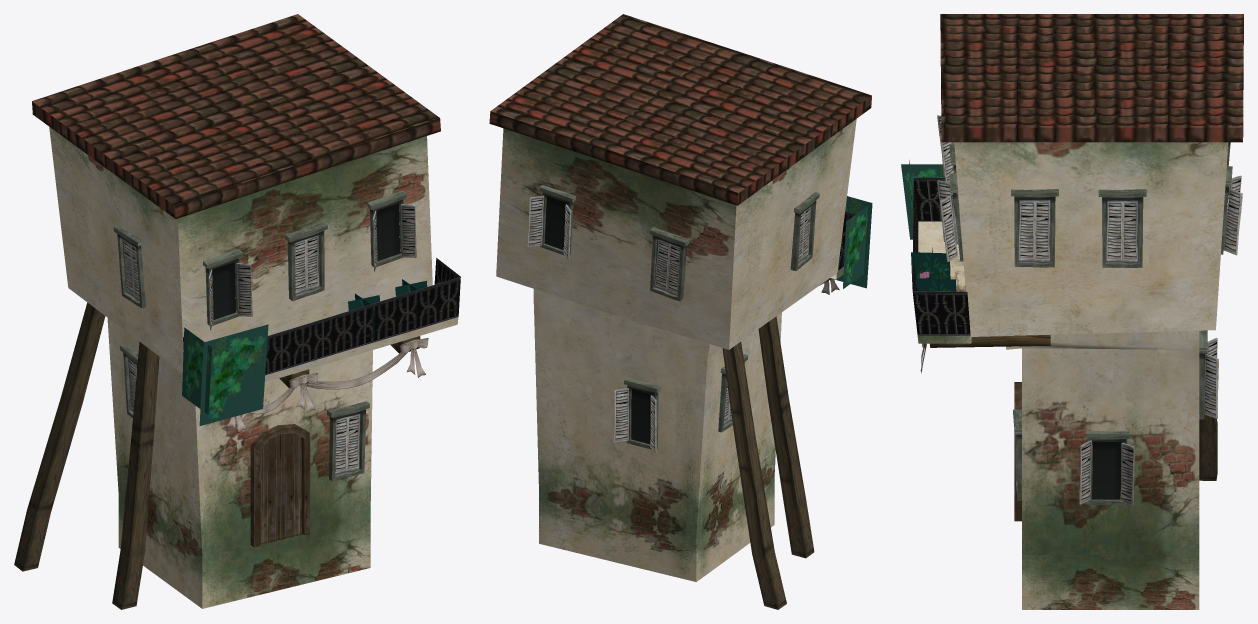
Rendered from spanish_npc_house_d_exterior.fbx.
3 renders of one model, left to right at view 1: azimuth 30°, elevation 25°; view 2: azimuth 150°, elevation 25°; view 3: azimuth 270°, elevation 25°, orthographic. The views are drawn at different scales.
Visible parts, largest first — view 1: roof, building_top, building_bottom, balcony_railing, polySurface273, polySurface275, pPlane33, door_right, win_rect_closed_012, win_rect_closed_01, door_frame, win_rect_closed_07 (+11 smaller); view 2: building_bottom, building_top, roof, polySurface273, polySurface275, win_rect_closed_010, win_rect_closed_07, pPlane34, windowframe4.003, windowframe4.004, windowframe.003, pPlane33 (+4 smaller); view 3: building_bottom, building_top, roof, balcony_railing, win_rect_closed_08, win_rect_closed_09, main, windowframe4.001, polySurface273, Column4, pPlane34, pPlane50.001 (+11 smaller).
Part boxes in pixels (x1,y1,x2,y2): roof: (32,14,440,218); building_top: (49,127,432,373); building_bottom: (107,318,372,608); balcony_railing: (183,258,460,375); polySurface273: (14,302,105,571); polySurface275: (112,342,159,609); pPlane33: (199,324,268,425); door_right: (260,433,303,544); win_rect_closed_012: (327,401,369,481); win_rect_closed_01: (285,222,327,301); door_frame: (250,424,310,547); win_rect_closed_07: (113,225,146,308); building_bottom: (533,289,781,581); building_top: (496,119,856,349); roof: (489,14,871,205); polySurface273: (722,342,786,609); polySurface275: (758,316,814,558); win_rect_closed_010: (649,227,689,301); win_rect_closed_07: (790,192,819,270); pPlane34: (843,205,868,288); windowframe4.003: (631,389,652,444); windowframe4.004: (544,196,567,250); windowframe.003: (624,377,661,449); pPlane33: (834,196,872,288); building_bottom: (1006,330,1199,609); building_top: (954,142,1228,336); roof: (940,14,1243,142); balcony_railing: (912,177,970,335); win_rect_closed_08: (1011,189,1058,267); win_rect_closed_09: (1098,189,1146,267); main: (917,221,971,343); windowframe4.001: (1092,442,1122,499); polySurface273: (1199,353,1217,480); Column4: (930,335,1050,347); pPlane34: (901,164,944,239); pPlane50.001: (911,252,950,289).
Size of the model in its own units: 3034 by 4470 by 2785.
Materials: 3 (3 with a texture image).
